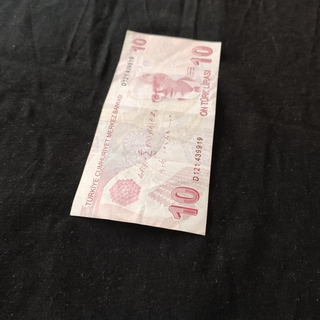10TLBack: (68, 28, 223, 237)
